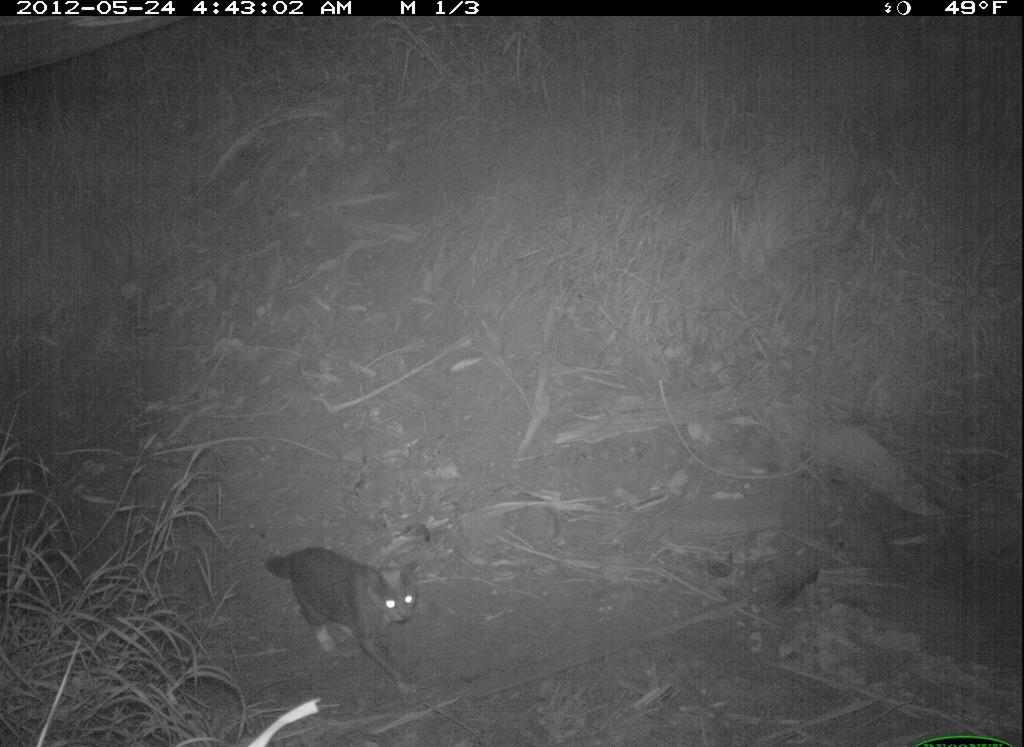cat: (250, 532, 437, 712)
